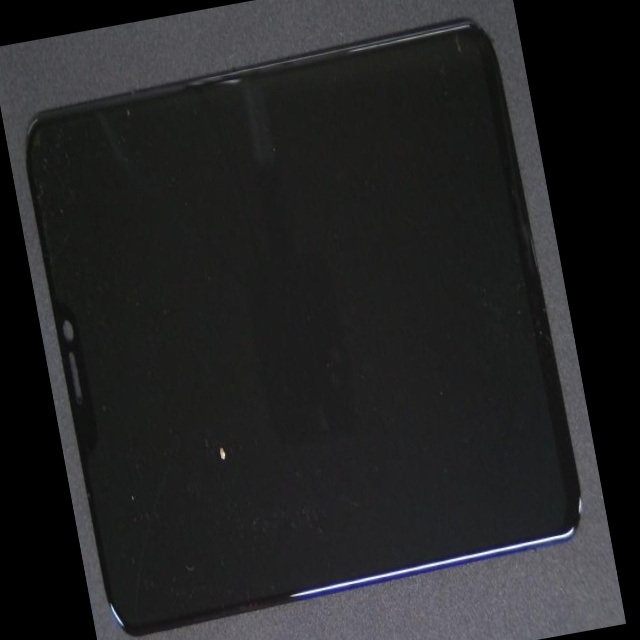stain: (130, 221, 342, 640)
